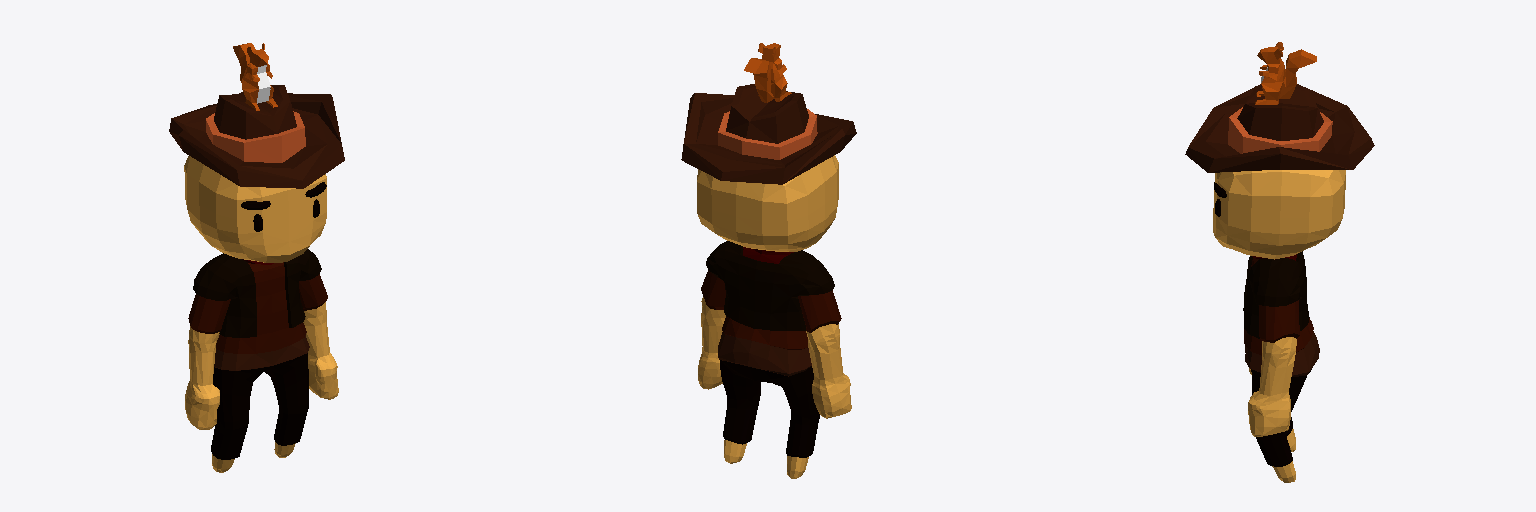
The model's file is kik.obj.
The picture shows the model from 3 angles: view 1: azimuth 30°, elevation 25°; view 2: azimuth 150°, elevation 25°; view 3: azimuth 270°, elevation 25°; orthographic projection.
Visible parts, largest first — view 1: Body, model; view 2: Body, model; view 3: Body, model.
Boxes of the visible parts, x1=… form: Body: x1=169, y1=85, x2=344, y2=472; model: x1=233, y1=43, x2=277, y2=110; Body: x1=681, y1=84, x2=856, y2=478; model: x1=744, y1=43, x2=791, y2=102; Body: x1=1185, y1=84, x2=1374, y2=482; model: x1=1255, y1=42, x2=1316, y2=104.
Bounding box in the file's own units: 1.34 × 3.49 × 1.42.